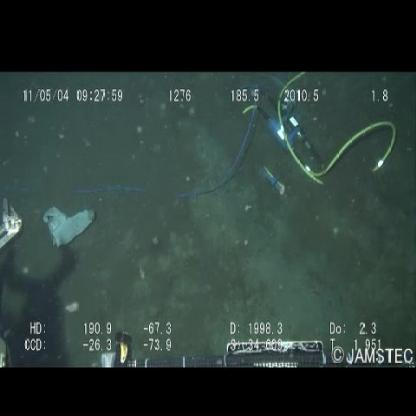Rov: (231, 80, 401, 208), (99, 328, 416, 366)
Rác: (41, 202, 98, 250)
